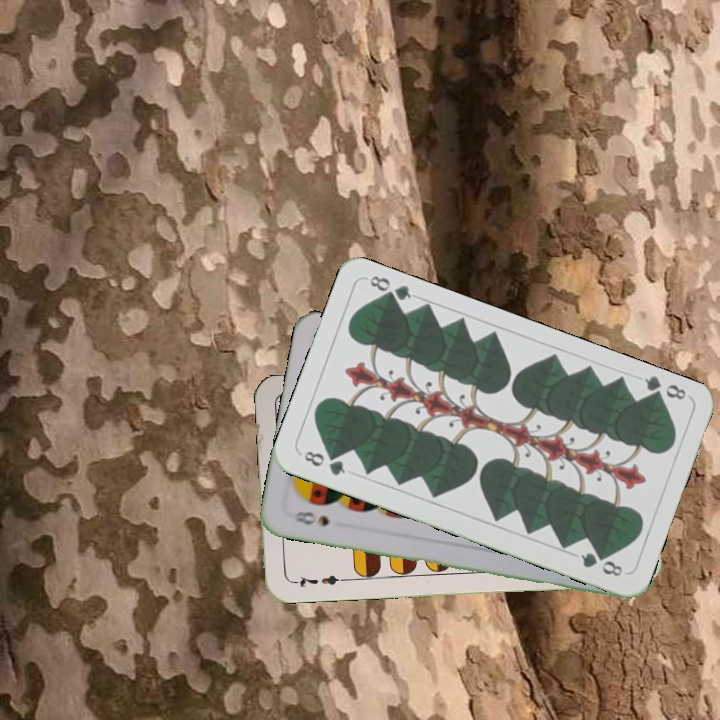E7: (288, 571, 347, 590)
G8: (640, 372, 689, 406), (297, 447, 348, 478)
S8: (290, 507, 332, 529)
